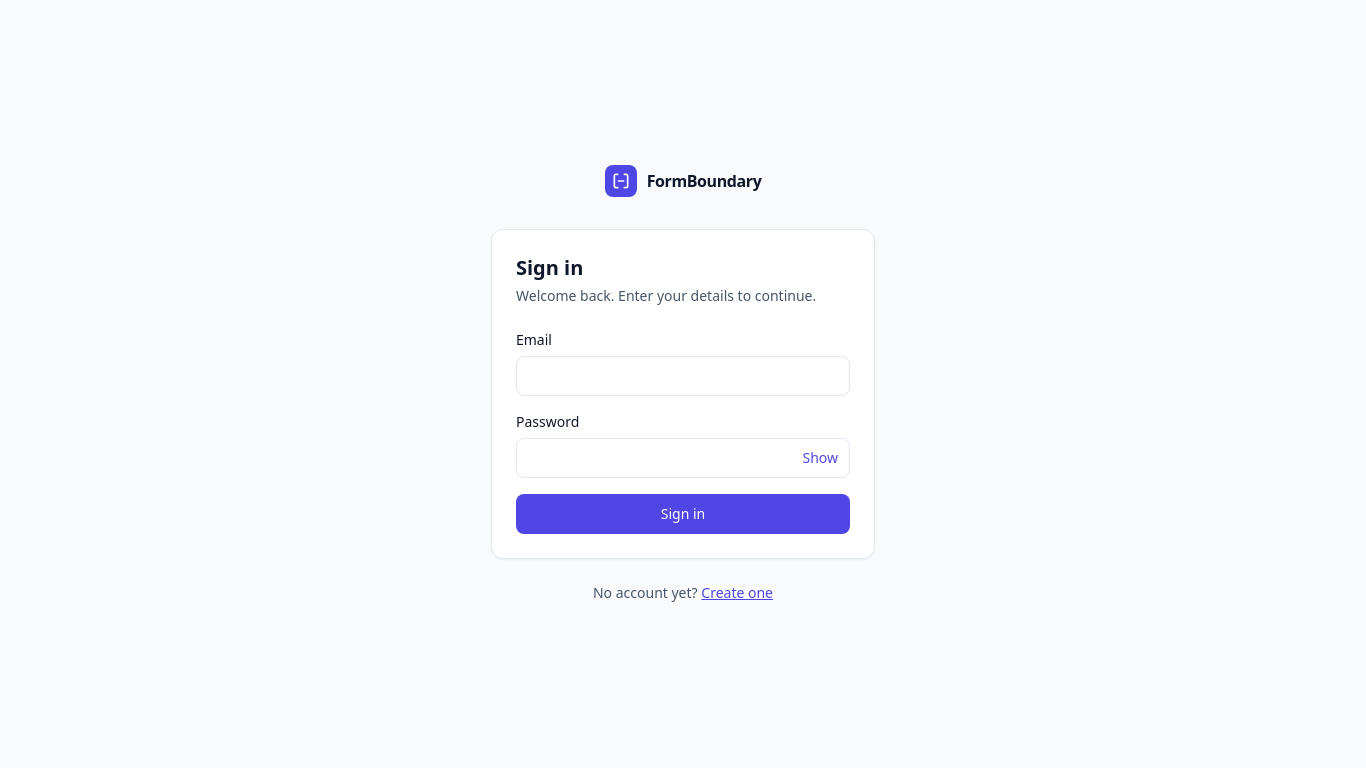
Scenario: route guards › redirects anonymous users to /login and returns them to the page they wanted
Expected: the heading "Sign in" is shown, [516,254,583,281]
Type "raja@example.com" into the field labelled "Email".
click(683, 376); type("raja@example.com")  # box [516,356,850,396]
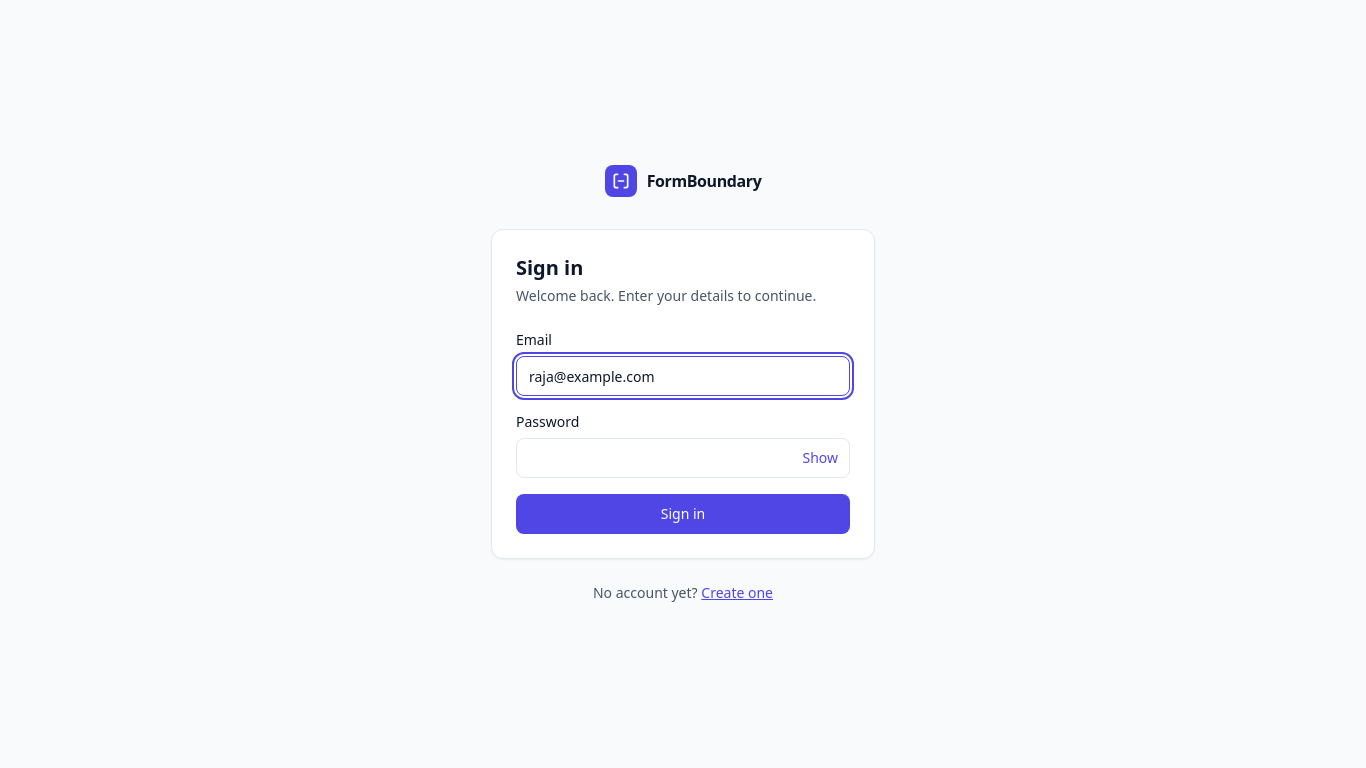
Type "correct-horse-battery" into the password field labelled "Password".
click(683, 458); type("correct-horse-battery")  # box [516,438,850,478]
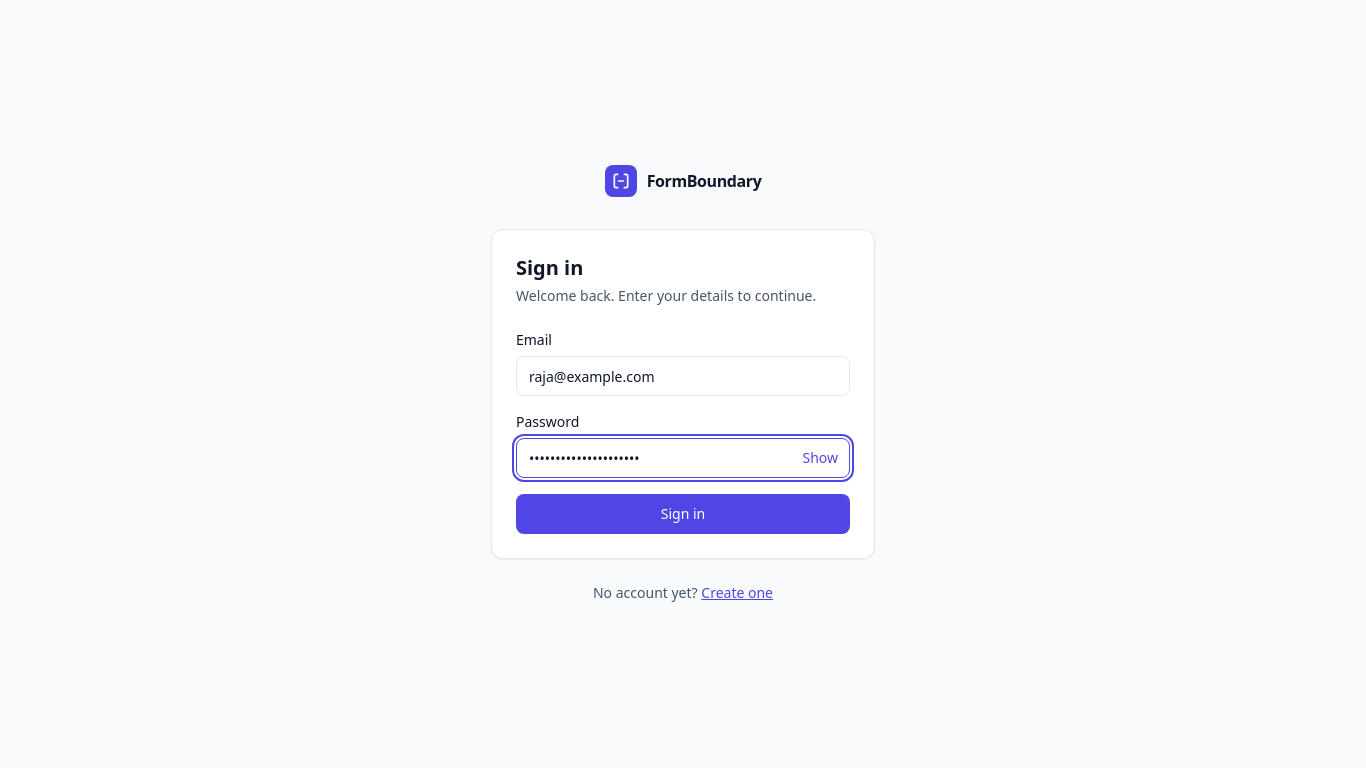
Click the button "Sign in".
click(683, 514)  # box [516,494,850,534]
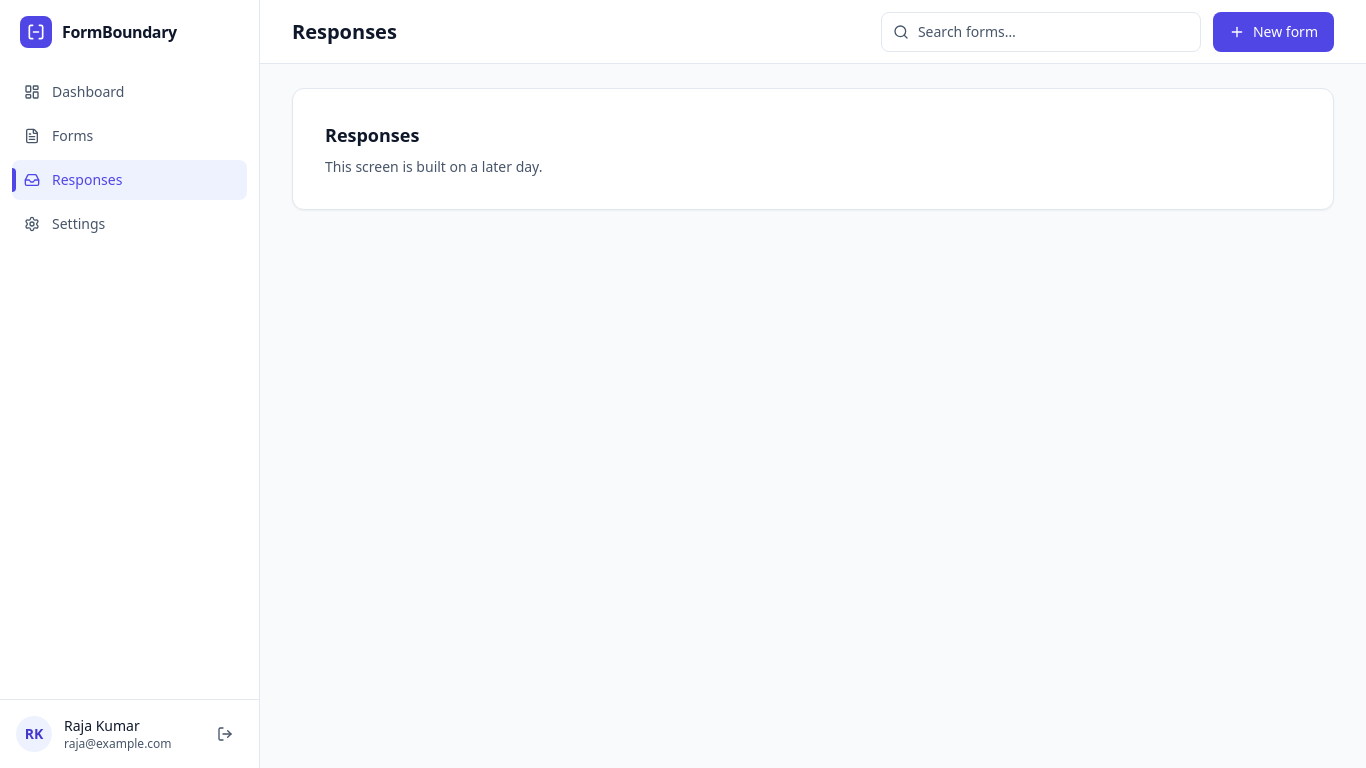
Now the 1st heading "Responses" is shown, box [292,18,397,46]
